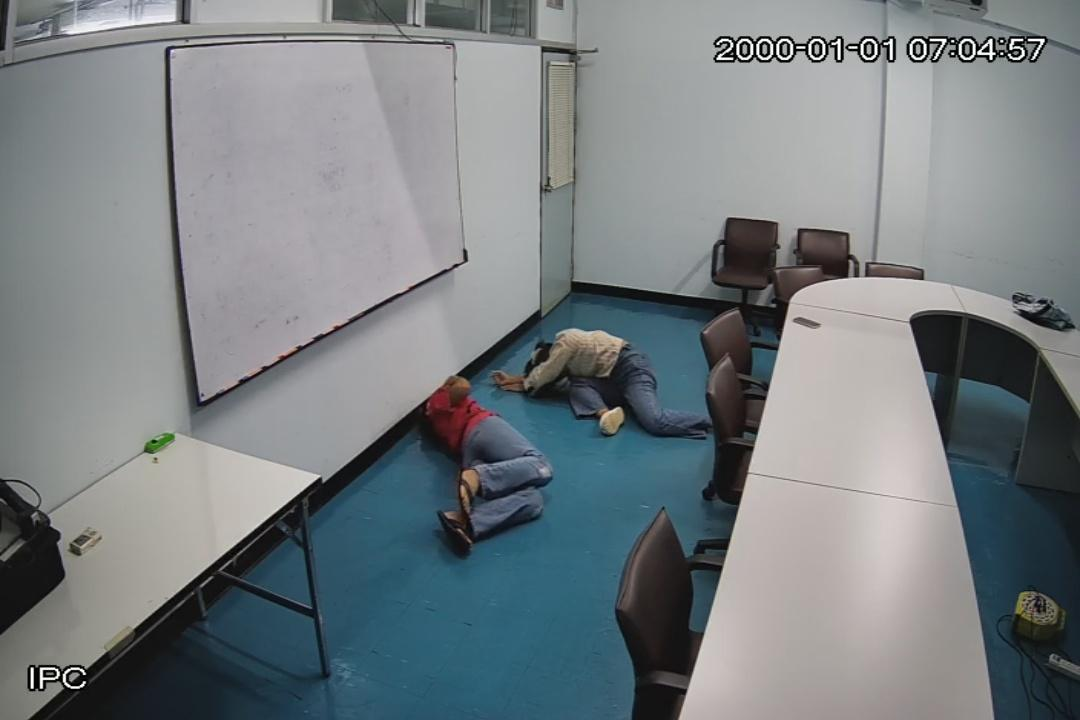fall: (410, 368, 564, 572), (504, 324, 748, 440)
